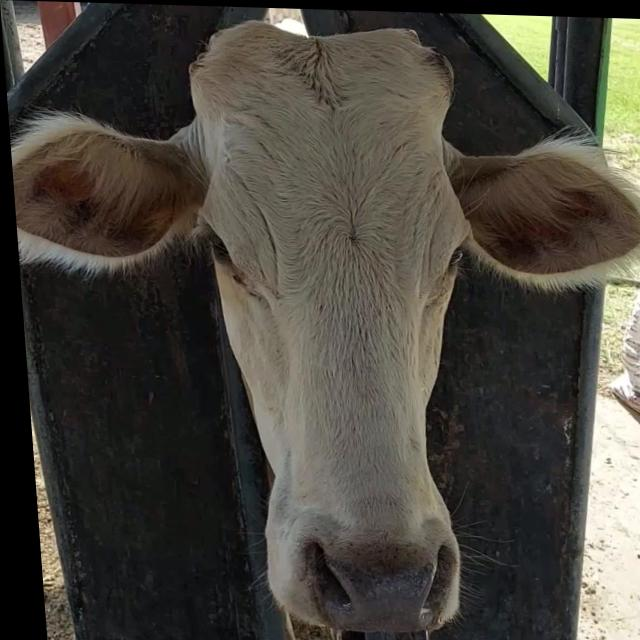cowFace: (188, 19, 487, 633)
